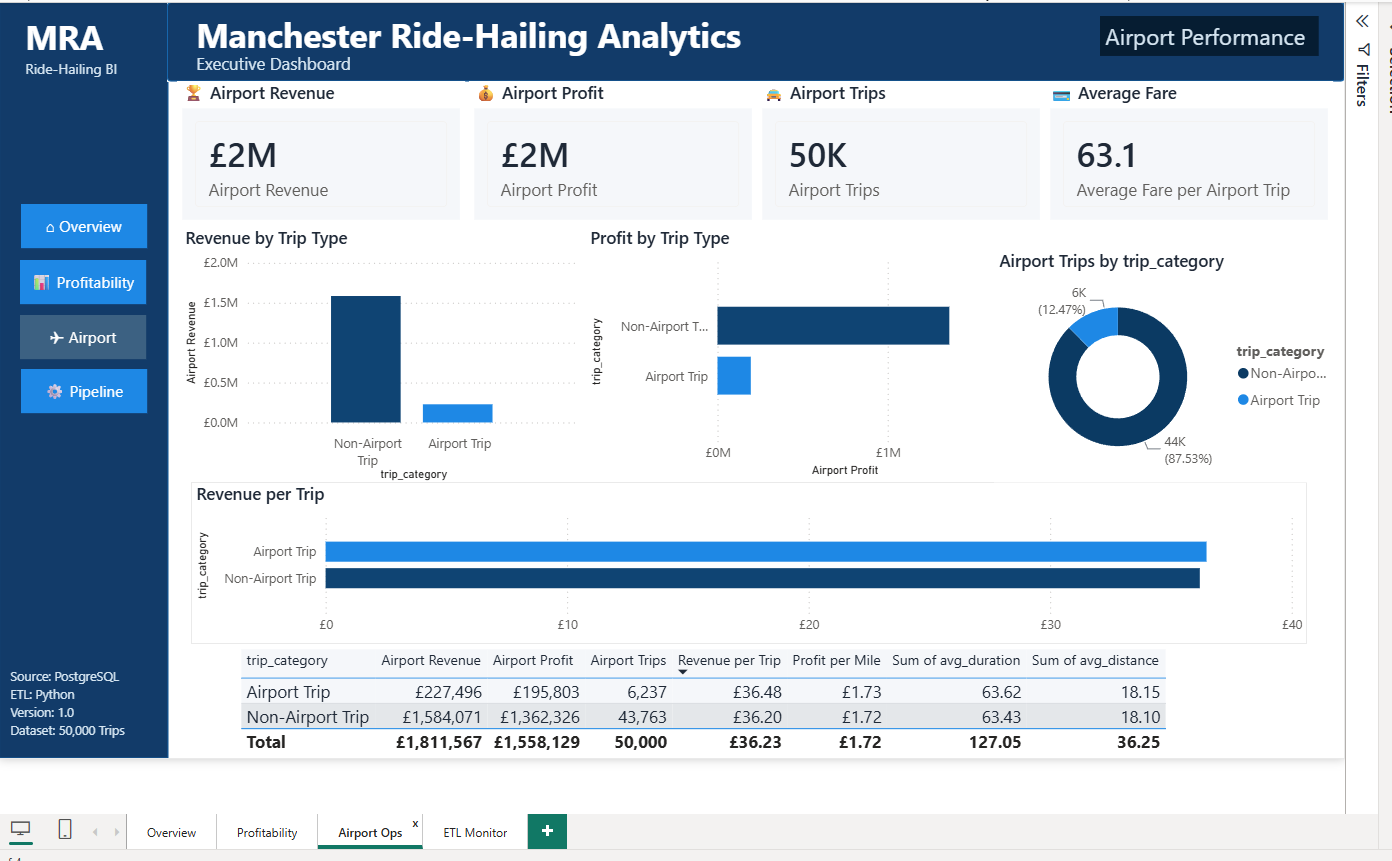

Layout of this report page (visuals, bound fields, positions):
{"tool":"powerbi","page":{"name":"Airport Ops","canvas":[1280,720],"ordinal":2},"visuals":[{"type":"shape","title":"Sidebar","box":[0,0,161.3,719.5],"z":0,"group":"g1"},{"type":"group","id":"g1","title":"Branding","box":[0,0,1280,719.5],"z":0},{"type":"actionButton","title":"Button 4","box":[21.4,348.5,119.5,41.7],"z":0,"group":"g2"},{"type":"group","id":"g2","title":"Navigation","box":[20.3,191.7,120.7,198.5],"z":1000},{"type":"actionButton","title":"Button 1","box":[21.4,191.7,119.5,41.7],"z":1000,"group":"g2"},{"type":"clusteredColumnChart","title":"Revenue by Trip Type","fields":{"Category":["public vw_airport_performance.trip_category"],"Y":["public vw_airport_performance.Airport Revenue"]},"box":[172.4,213.3,384.5,246.8],"z":1000,"group":"g1"},{"type":"cardVisual","title":"🏆 Airport Revenue","fields":{"Data":["public vw_airport_performance.Airport Revenue"]},"box":[169.2,75.6,274,137.6],"z":2000},{"type":"barChart","title":"Profit by Trip Type","fields":{"Category":["public vw_airport_performance.trip_category"],"Y":["public vw_airport_performance.Airport Profit"]},"box":[556.9,213.3,385.7,243.1],"z":2000,"group":"g1"},{"type":"actionButton","title":"Button 2","box":[20.3,244.7,119.5,41.7],"z":2000,"group":"g2"},{"type":"cardVisual","title":"💰 Airport Profit","fields":{"Data":["public vw_airport_performance.Airport Profit"]},"box":[446.6,75.6,274,137.6],"z":3000},{"type":"actionButton","title":"Button 3","box":[20.3,297.7,119.5,41.7],"z":3000,"group":"g2"},{"type":"barChart","title":"Revenue per Trip","fields":{"Category":["public vw_airport_performance.trip_category"],"Y":["public vw_airport_performance.Revenue per Trip"]},"box":[182.3,456.4,1061.7,153.8],"z":3000,"group":"g1"},{"type":"cardVisual","title":"🚖 Airport Trips","fields":{"Data":["public vw_airport_performance.Airport Trips"]},"box":[720.6,75.6,274,137.6],"z":4000},{"type":"donutChart","fields":{"Category":["public vw_airport_performance.trip_category"],"Y":["public vw_airport_performance.Airport Trips"]},"box":[946.4,234.4,333.6,222],"z":4000,"group":"g1"},{"type":"cardVisual","title":"💳 Average Fare","fields":{"Data":["Sum(public vw_airport_performance.avg_profit_per_hour)"]},"box":[994.7,75.6,274,137.6],"z":5000},{"type":"tableEx","fields":{"Values":["public vw_airport_performance.trip_category","public vw_airport_performance.Airport Revenue","public vw_airport_performance.Airport Profit","public vw_airport_performance.Airport Trips","public vw_airport_performance.Revenue per Trip","public vw_airport_performance.Profit per Mile","Sum(public vw_airport_performance.avg_duration)","Sum(public vw_airport_performance.avg_distance)"]},"box":[224.5,610.2,1009.6,109.1],"z":5000,"group":"g1"},{"type":"shape","title":"Header","box":[160.1,0,1119.9,75.6],"z":6000,"group":"g1"},{"type":"textbox","title":"Logo","box":[20.3,5.6,110.5,54.1],"z":7000,"group":"g1"},{"type":"textbox","title":"Logo Subtitle","box":[20.3,49.6,110.5,50.7],"z":8000,"group":"g1"},{"type":"textbox","title":"Header Title","box":[182.7,3.4,709.4,56.4],"z":9000,"group":"g1"},{"type":"textbox","title":"Header Subtitle","box":[182.7,42.9,283.1,32.7],"z":10000,"group":"g1"},{"type":"textbox","box":[1046.8,13.6,208.4,38.4],"z":11000,"group":"g1"},{"type":"textbox","box":[5.6,627,150,92.5],"z":12000,"group":"g1"}]}

Visuals, with their boxes on the page's 1280x720 design canvas (x1, y1, x2, y2). These are canvas units, not pixel positions in the 1392x861 screenshot, which may show the page scaled, cropped or inside an application window:
"Sidebar" shape: select_region(0, 0, 161, 720)
"Branding" group: select_region(0, 0, 1280, 720)
"Button 4" actionButton: select_region(21, 348, 141, 390)
"Navigation" group: select_region(20, 192, 141, 390)
"Button 1" actionButton: select_region(21, 192, 141, 233)
"Revenue by Trip Type" clusteredColumnChart: select_region(172, 213, 557, 460)
"🏆 Airport Revenue" cardVisual: select_region(169, 76, 443, 213)
"Profit by Trip Type" barChart: select_region(557, 213, 943, 456)
"Button 2" actionButton: select_region(20, 245, 140, 286)
"💰 Airport Profit" cardVisual: select_region(447, 76, 721, 213)
"Button 3" actionButton: select_region(20, 298, 140, 339)
"Revenue per Trip" barChart: select_region(182, 456, 1244, 610)
"🚖 Airport Trips" cardVisual: select_region(721, 76, 995, 213)
donutChart - public vw_airport_performance.trip_category x public vw_airport_performance.Airport Trips: select_region(946, 234, 1280, 456)
"💳 Average Fare" cardVisual: select_region(995, 76, 1269, 213)
tableEx - public vw_airport_performance.trip_category x public vw_airport_performance.Airport Revenue: select_region(224, 610, 1234, 719)
"Header" shape: select_region(160, 0, 1280, 76)
"Logo" textbox: select_region(20, 6, 131, 60)
"Logo Subtitle" textbox: select_region(20, 50, 131, 100)
"Header Title" textbox: select_region(183, 3, 892, 60)
"Header Subtitle" textbox: select_region(183, 43, 466, 76)
textbox: select_region(1047, 14, 1255, 52)
textbox: select_region(6, 627, 156, 720)
